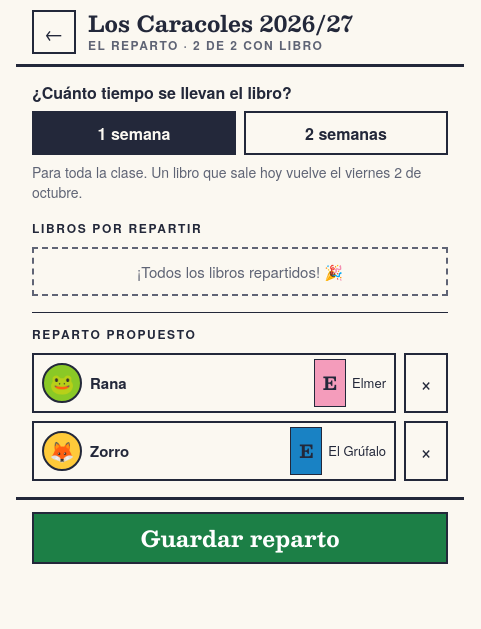
Test: <AssignScreen /> › unassigns a child's book back to the tray
The image size is (481, 629).
Click the button named "Rana, quitar libro" at coordinates (426, 383), box x1=404 y1=353 x2=448 y2=413
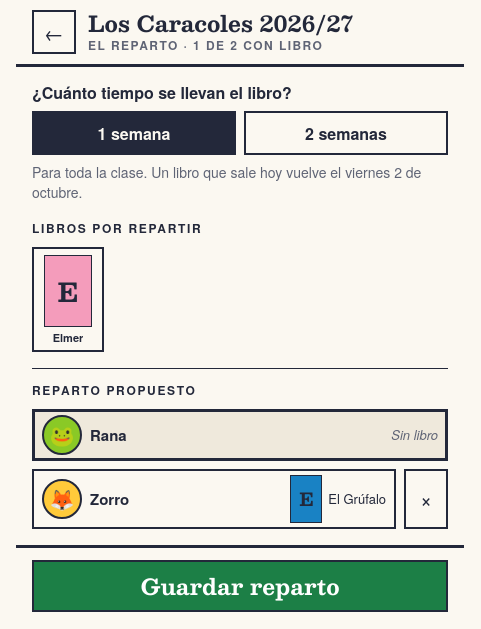
Expected: the button with aria-label "Elmer, asignar" is shown, x1=32 y1=247 x2=104 y2=352
Expected: the button with aria-label "Rana, sin libro" is shown, x1=32 y1=409 x2=448 y2=461
